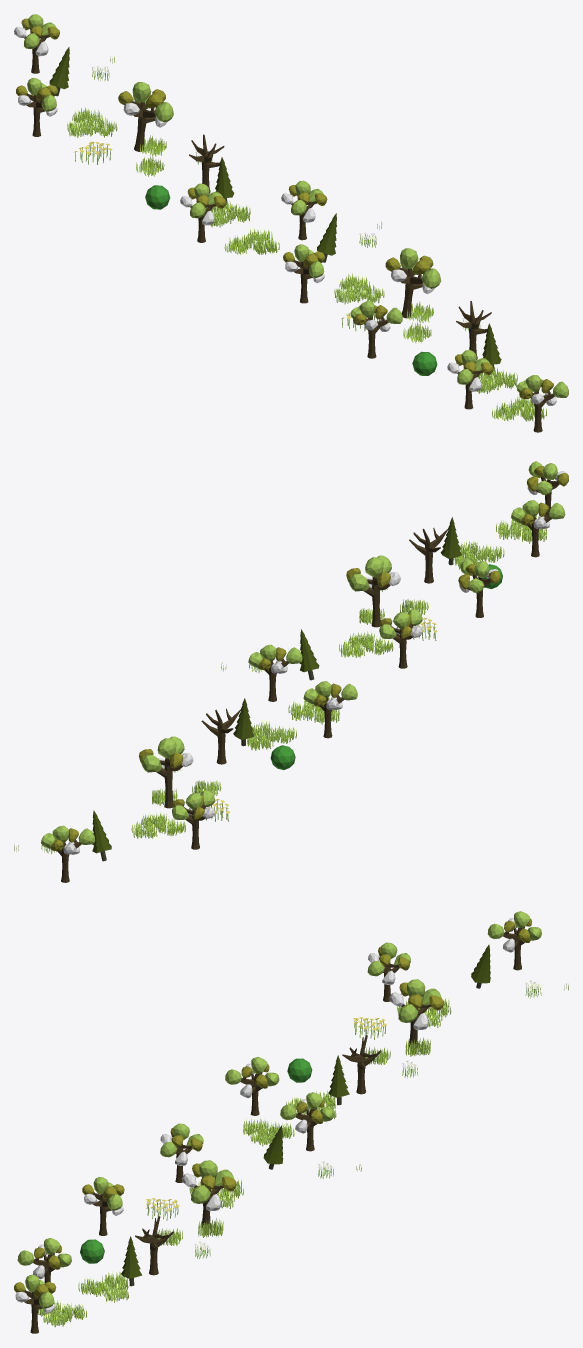
3 renders of one model, top to bottom at view 1: azimuth 30°, elevation 25°; view 2: azimuth 150°, elevation 25°; view 3: azimuth 330°, elevation 25°, orthographic.
Parts seen in each view (by area): view 1: Arbol.003, Arbol.009, Arbol.006, Arbol.004, Arbol.008, Arbol.005, Arbol.002, Arbol.011, Arbol.001, Arbol.012, Pasto.005, Pasto.009 (+6 smaller); view 2: Arbol.003, Arbol.009, Arbol.002, Arbol.012, Arbol.001, Arbol.011, Arbol.008, Arbol.005, Arbol.006, Arbol.004, Pasto.005, Pasto.009 (+7 smaller); view 3: Arbol.003, Arbol.009, Arbol.002, Arbol.012, Arbol.001, Arbol.006, Arbol.004, Arbol.011, Arbol.008, Arbol.005, Pasto.006, Pasto.001 (+4 smaller).
Boxes of the visible parts, x1,y1,x2,y2 form: Arbol.003: [118, 82, 173, 151]; Arbol.009: [385, 248, 441, 318]; Arbol.006: [350, 301, 402, 358]; Arbol.004: [517, 375, 568, 432]; Arbol.008: [283, 244, 324, 303]; Arbol.005: [16, 78, 57, 136]; Arbol.002: [180, 183, 225, 242]; Arbol.011: [447, 350, 493, 409]; Arbol.001: [14, 14, 59, 73]; Arbol.012: [281, 180, 327, 240]; Pasto.005: [67, 107, 117, 137]; Pasto.009: [334, 273, 384, 304]; Arbol.003: [139, 736, 193, 808]; Arbol.009: [346, 555, 400, 627]; Arbol.002: [303, 681, 357, 738]; Arbol.012: [248, 644, 302, 701]; Arbol.001: [41, 825, 95, 882]; Arbol.011: [511, 500, 565, 557]; Arbol.008: [379, 609, 422, 668]; Arbol.005: [172, 790, 215, 849]; Arbol.006: [458, 559, 500, 617]; Arbol.004: [527, 461, 568, 519]; Pasto.005: [131, 812, 185, 838]; Pasto.009: [339, 631, 393, 657]; Arbol.003: [389, 979, 443, 1047]; Arbol.009: [182, 1160, 236, 1228]; Arbol.002: [225, 1057, 279, 1115]; Arbol.012: [280, 1092, 334, 1151]; Arbol.001: [487, 911, 541, 970]; Arbol.006: [82, 1177, 124, 1235]; Arbol.004: [14, 1274, 56, 1333]; Arbol.011: [17, 1238, 71, 1283]; Arbol.008: [160, 1123, 203, 1182]; Arbol.005: [367, 942, 410, 1001]; Pasto.006: [78, 1271, 130, 1302]; Pasto.001: [243, 1118, 294, 1146].
Size of the model in its own units: 639 by 233 by 3185.
